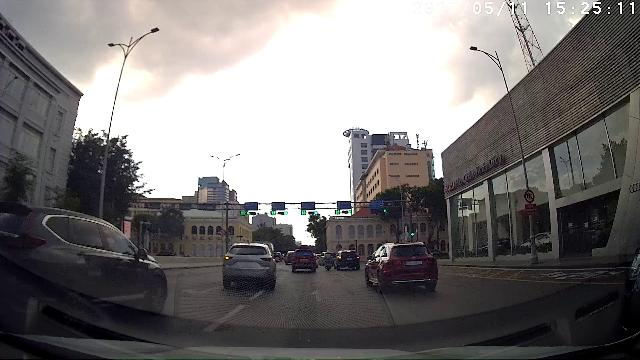124b-cam-oto-quay-dau-xe: (524, 189, 535, 203)
